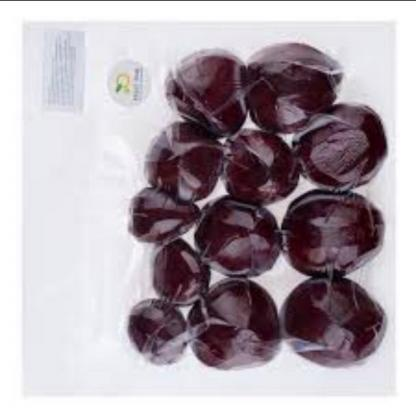beet: (118, 28, 387, 370)
